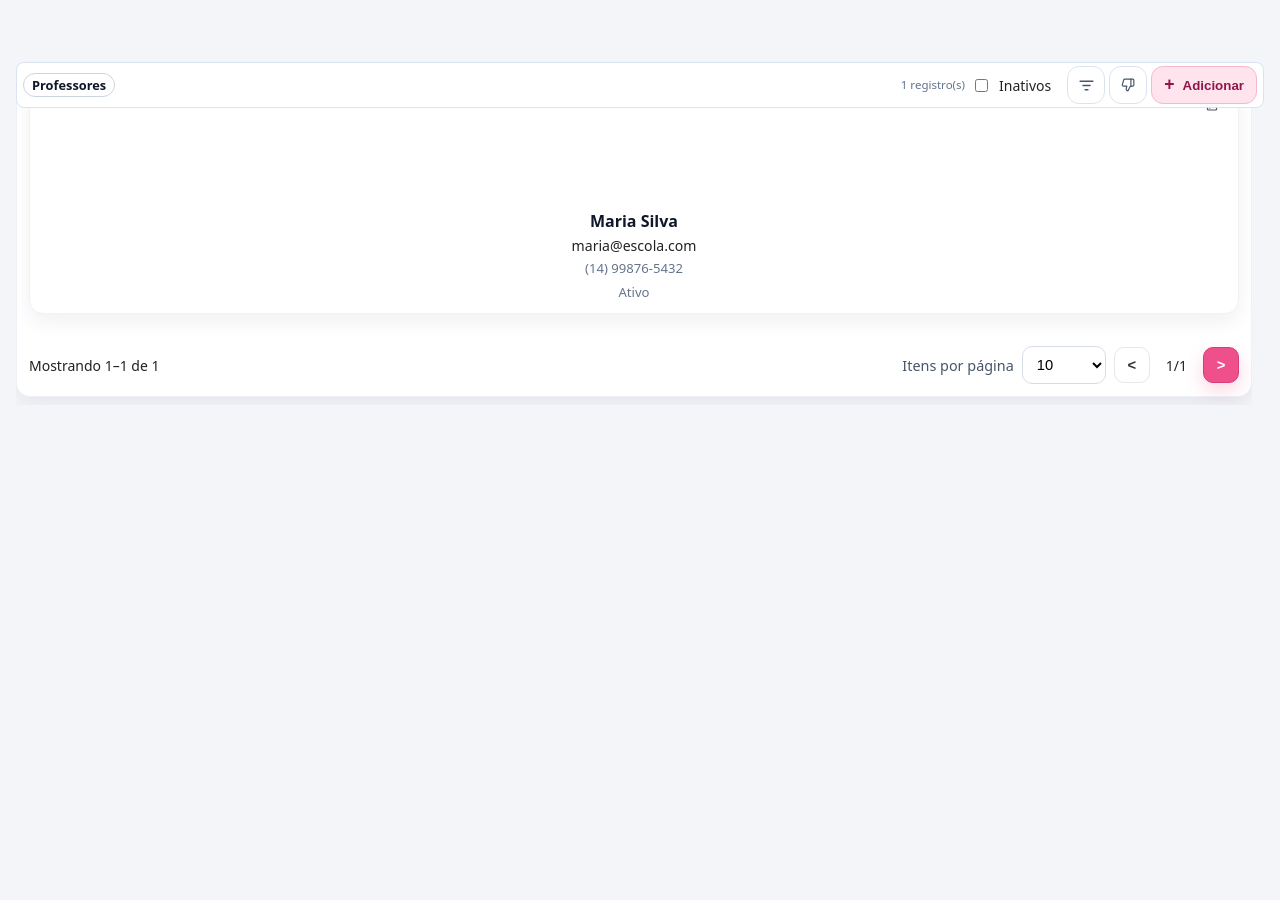
Scenario: Fatia final das listagens › Professores carrega fallback legado, abre detalhes pelo cartão e expõe atalho de WhatsApp
Expected: the text "(14) 99876-5432" is shown, left=585, top=259, right=683, bottom=277
Expected: the navigation bar named "Breadcrumb" reads "Professores", left=32, top=76, right=106, bottom=94
Click the heading "Maria Silva": (634,221) left=590, top=210, right=678, bottom=232
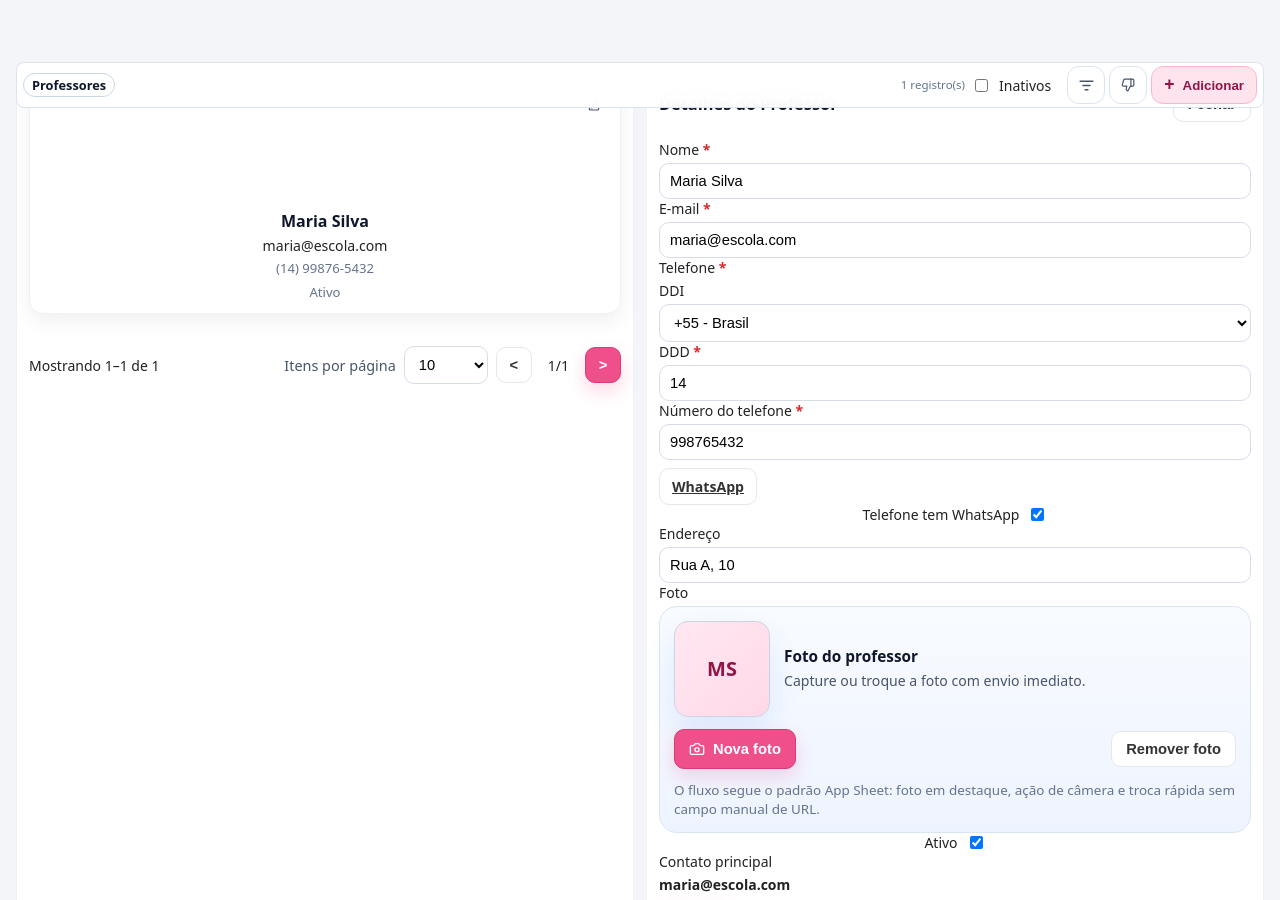
Now the heading "Detalhes do Professor" is shown, box left=659, top=93, right=838, bottom=115
